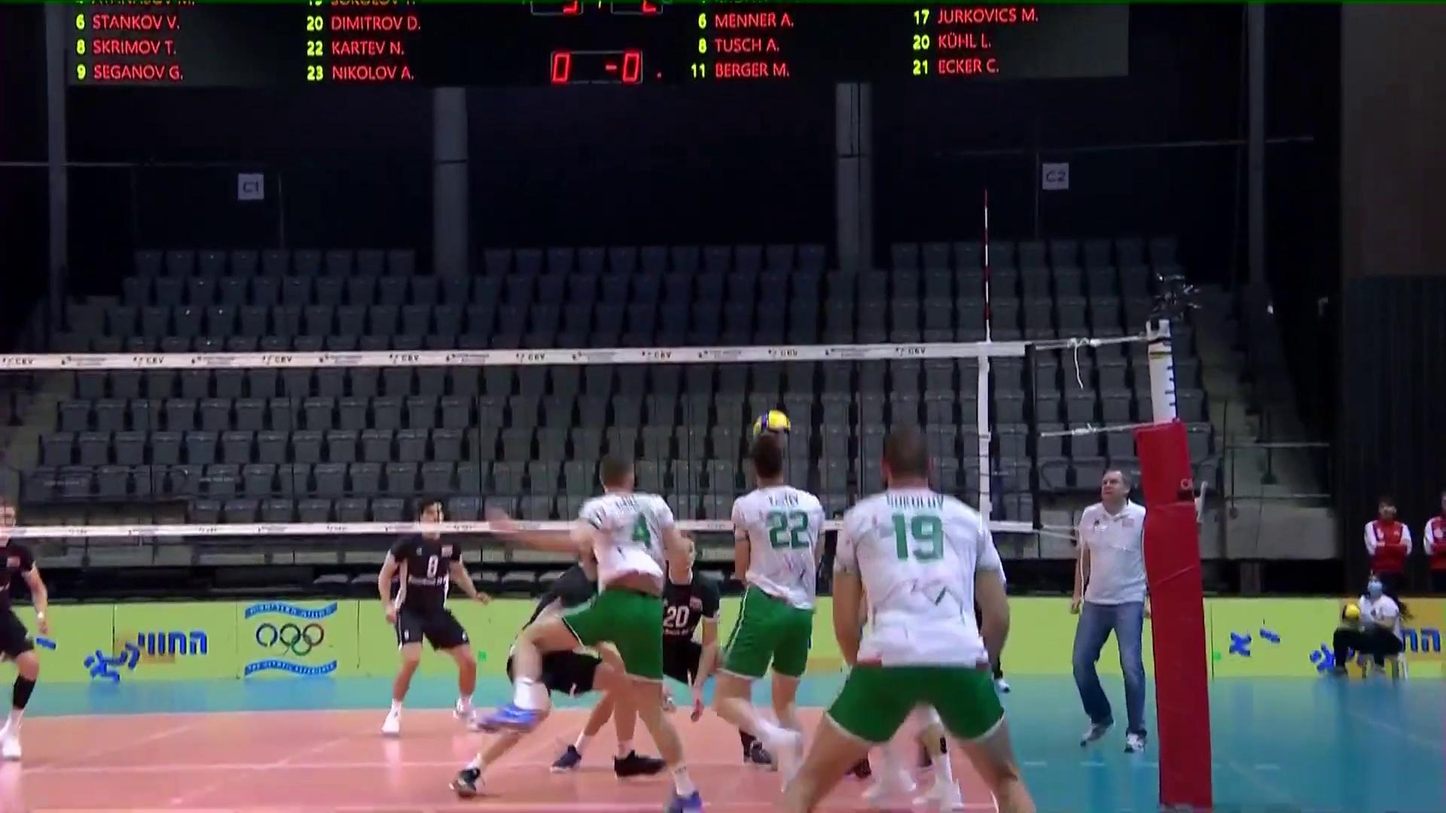ball: (752, 407, 795, 435)
